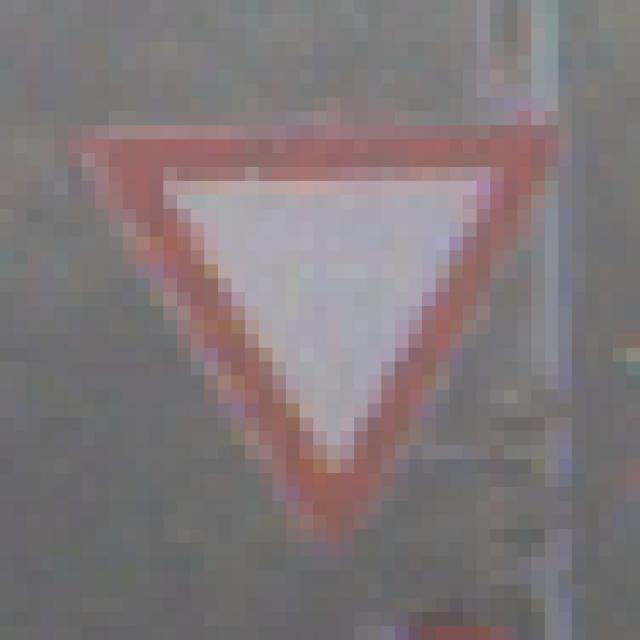Give Way: (83, 85, 573, 572)
